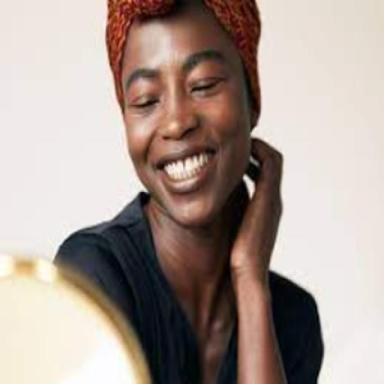normal skin: (121, 1, 286, 384)
